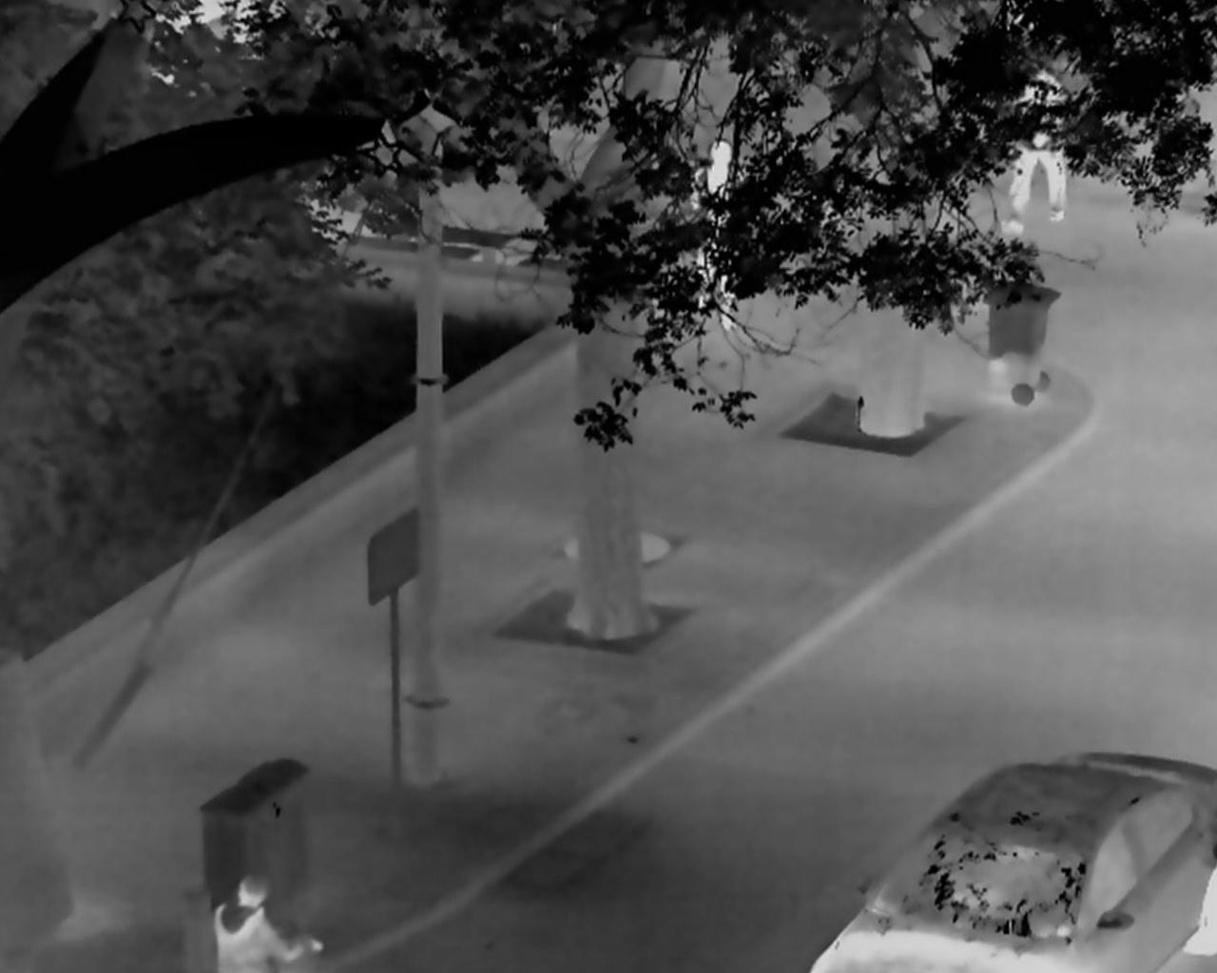person: (1002, 63, 1068, 234), (210, 874, 322, 973), (691, 139, 741, 330)
